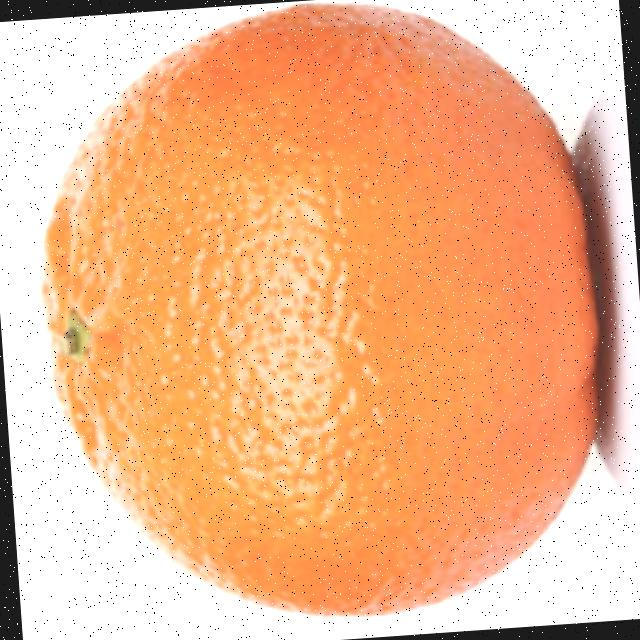orange: (17, 0, 621, 637)
